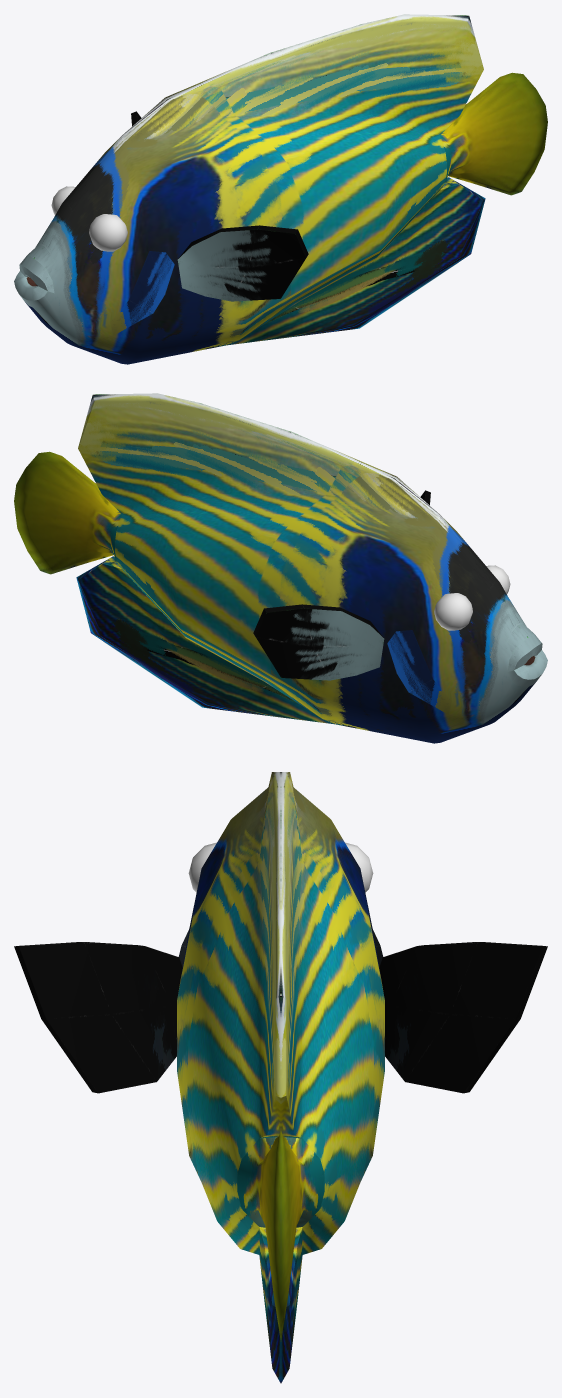
The model's file is MarineAngelFish.fbx.
The picture shows the model from 3 angles, top to bottom: view 1: azimuth 30°, elevation 25°; view 2: azimuth 150°, elevation 25°; view 3: azimuth 270°, elevation 25°; orthographic projection. The views are drawn at different scales.
Parts seen in each view (by area): view 1: Marine, MarineEye; view 2: Marine, MarineEye; view 3: Marine, MarineEye.
Part boxes in pixels (bbox=[...]): Marine: bbox=[14, 14, 547, 364]; MarineEye: bbox=[51, 186, 127, 251]; Marine: bbox=[14, 393, 547, 743]; MarineEye: bbox=[434, 565, 510, 630]; Marine: bbox=[14, 772, 547, 1383]; MarineEye: bbox=[188, 842, 373, 892].
Size of the model in its own units: 31.36 by 17.36 by 17.
